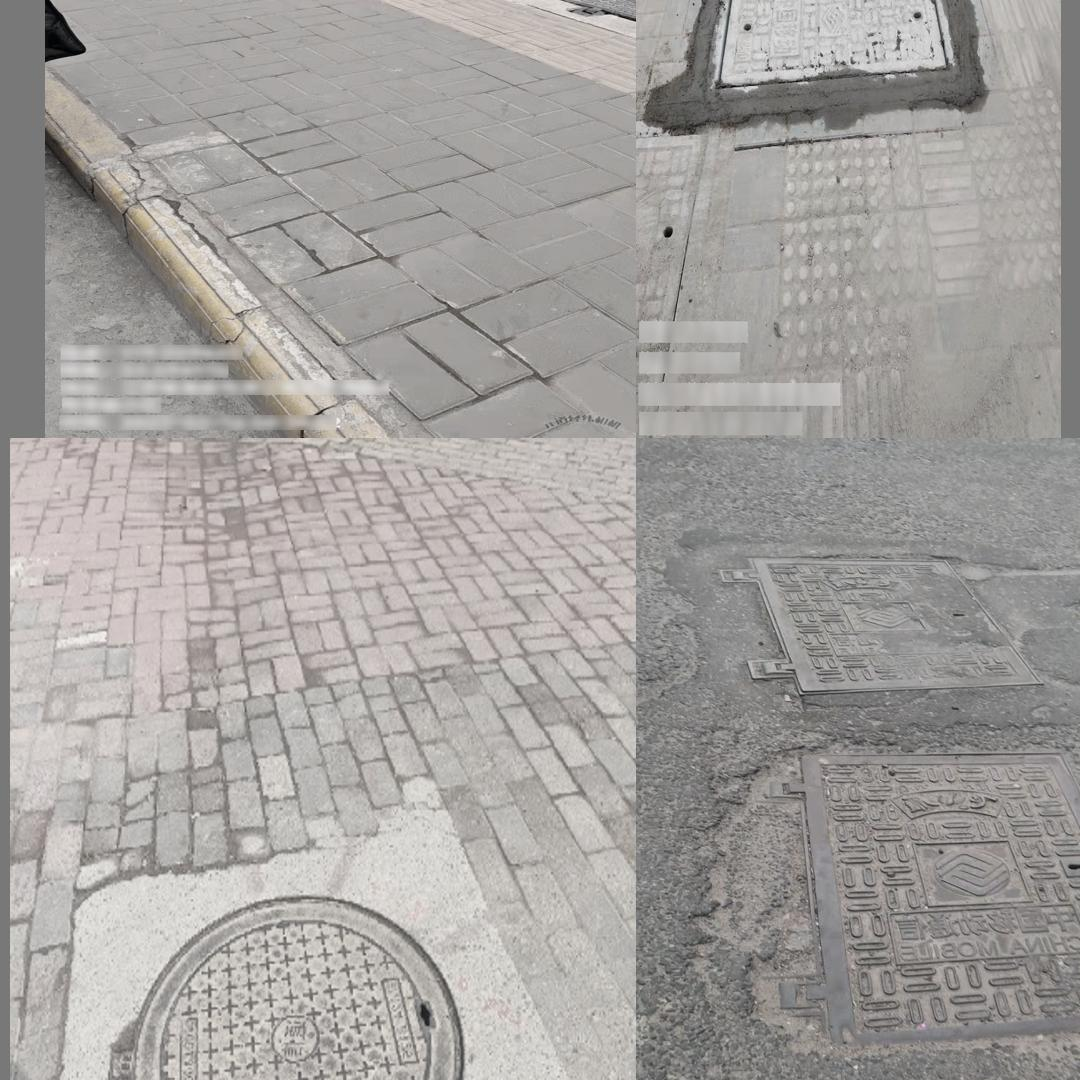good: (767, 750, 1080, 1042), (109, 895, 462, 1080), (717, 560, 1040, 694), (722, 0, 949, 73), (345, 0, 636, 30)
